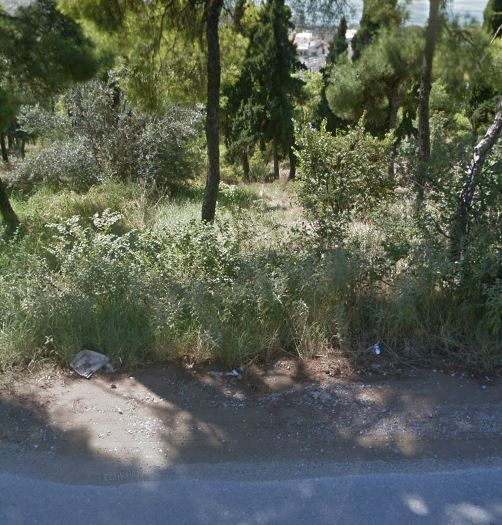trash: (63, 343, 115, 382), (200, 364, 243, 380), (369, 336, 383, 360)
